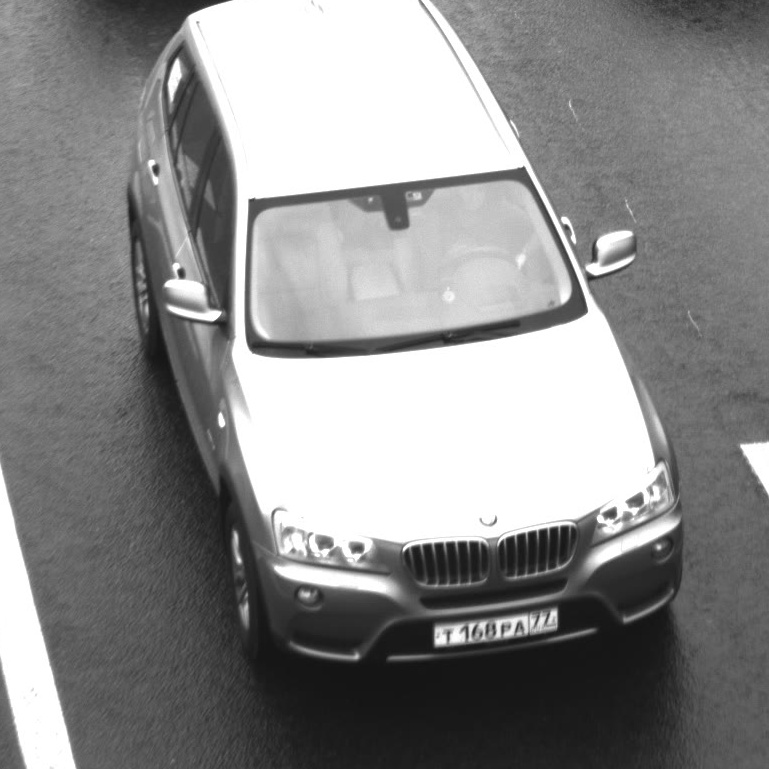plate: (421, 593, 569, 652)
